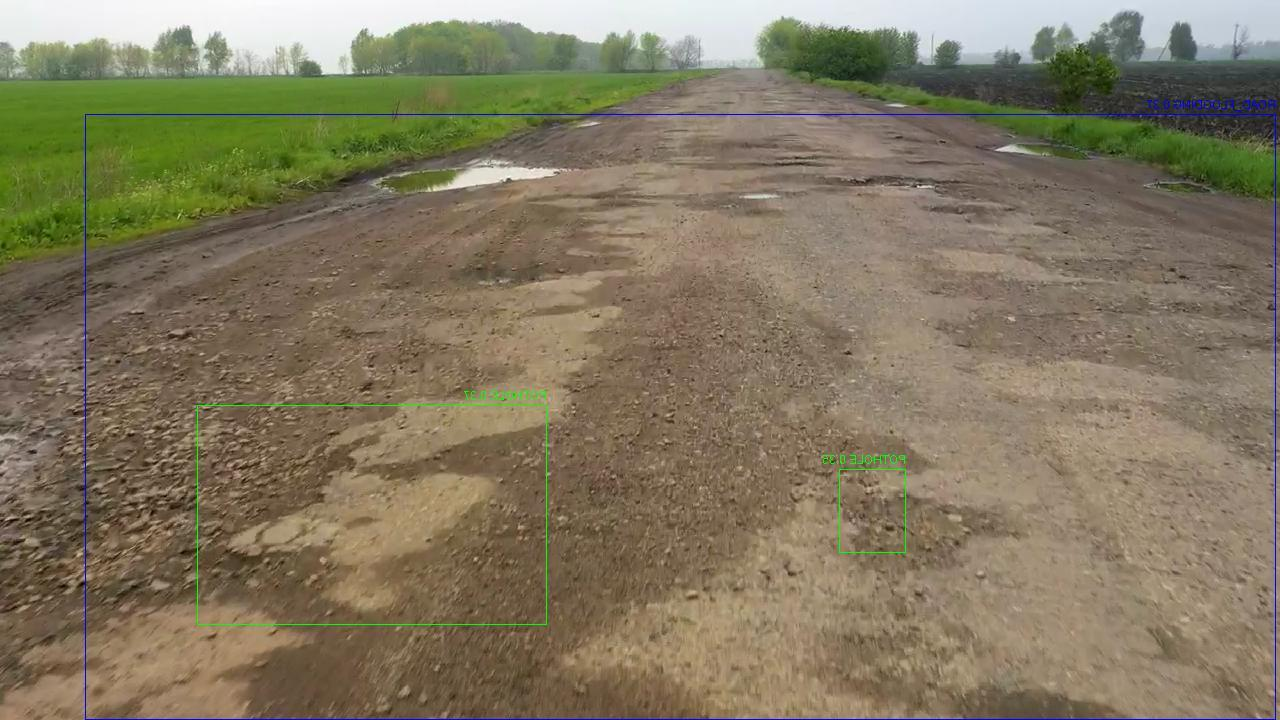ROAD_OBSTACLE: (480, 436, 774, 572)
